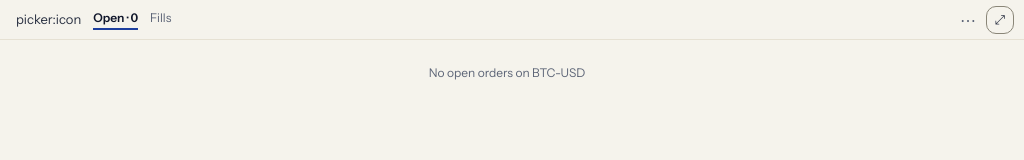
Test case: OrdersPanel › the Fills tab shows the fills list
The image size is (1024, 160).
Click the tab "Fills": (161, 20) [150, 9, 171, 30]
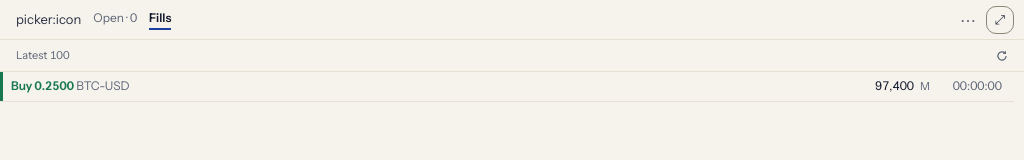
Result: the list named "Your fills" shows "Buy 0.2500" at [0, 72, 1014, 102]
